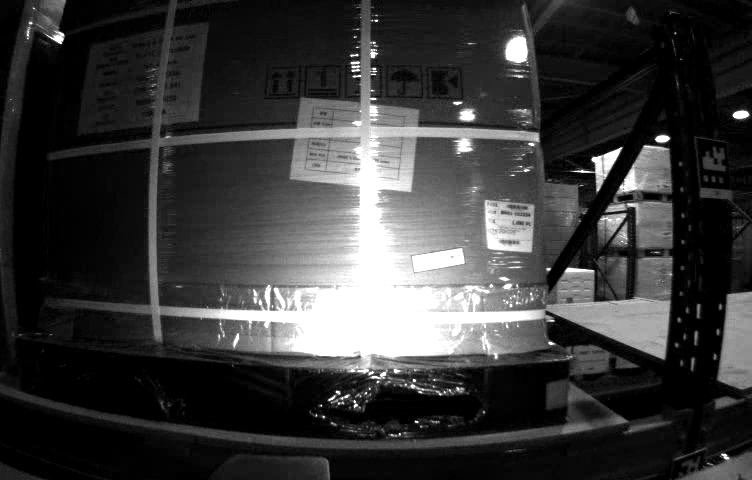True Barcode: (482, 198, 535, 250)
